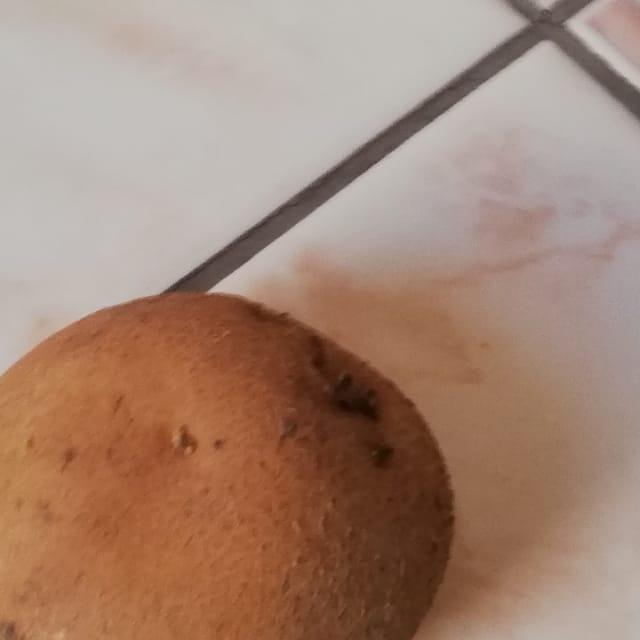potato: (0, 259, 472, 640)
